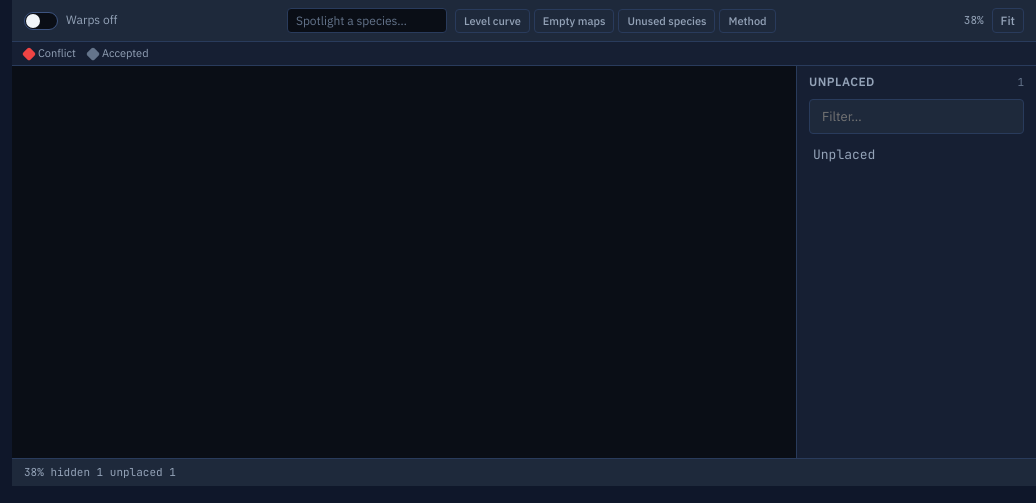
Test: fits clusters manually after a wheel
Click the button "Fit": [1008, 20] box [992, 8, 1024, 33]
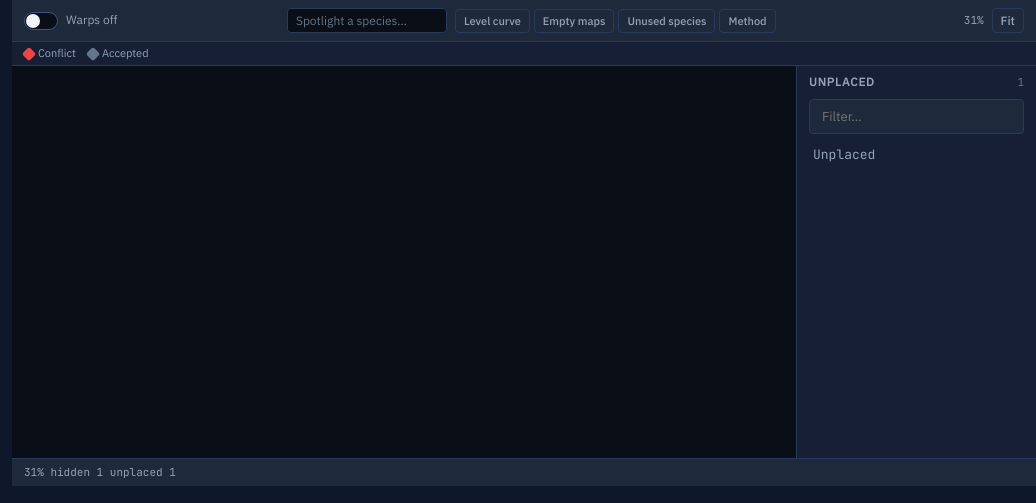
Expected: the text with class "world-canvas__zoom-readout" reads "31%", [964, 13, 984, 27]
